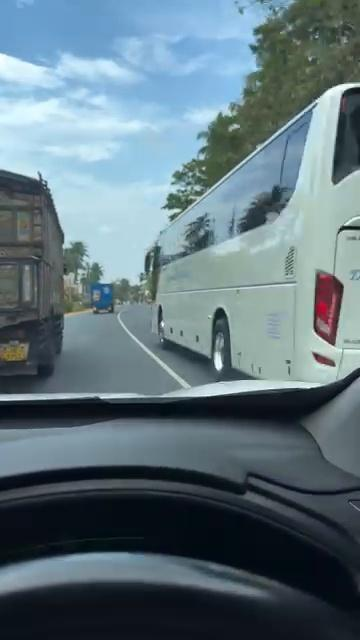illegal overtaking: (142, 145, 360, 382)
